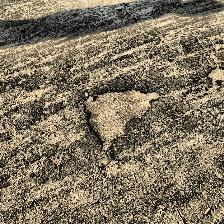pothole: (80, 88, 160, 150), (206, 68, 224, 82)
